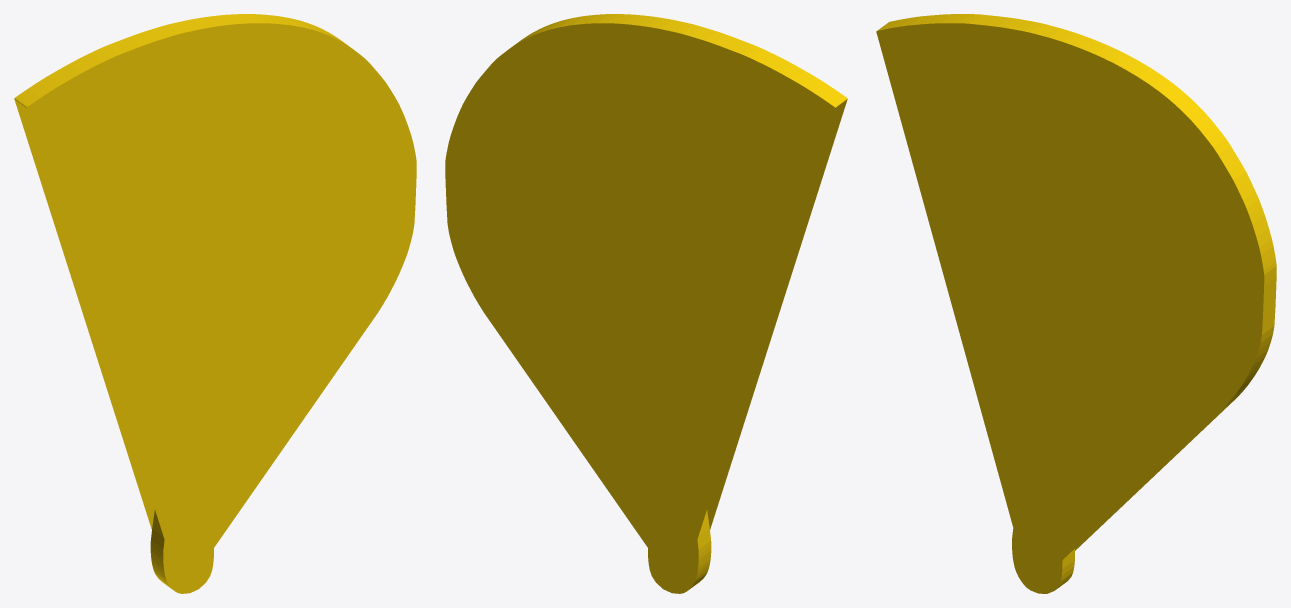
Rendered from Kama.fbx.
3 views of the same model, side by side, from view 1: azimuth 30°, elevation 25°; view 2: azimuth 150°, elevation 25°; view 3: azimuth 330°, elevation 25° (orthographic).
Parts seen in each view (by area): view 1: Circle; view 2: Circle; view 3: Circle.
Boxes of the visible parts, <box> form: Circle: <box>14,14,416,593</box>; Circle: <box>445,14,847,593</box>; Circle: <box>876,14,1276,593</box>.
Bounding box in the file's own units: 53.53 × 73.7 × 2.99.
